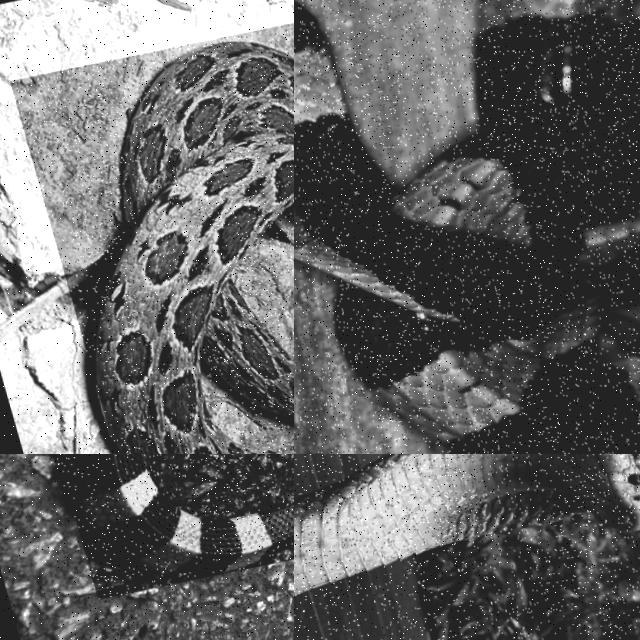Bungarus fasciatus: (294, 0, 639, 453), (57, 454, 293, 577)
Daboia siamensis: (95, 43, 293, 453)
Naja kaouthia: (294, 454, 639, 592)
